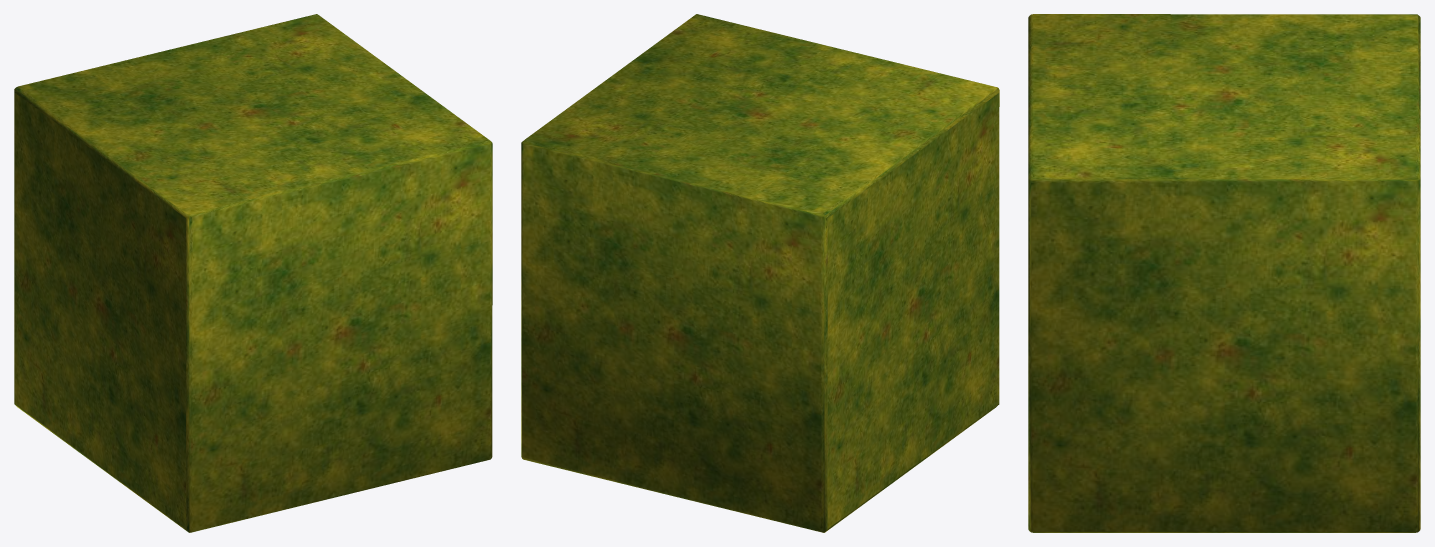
The model's file is moss.glb.
The picture shows the model from 3 angles, left to right: view 1: azimuth 30°, elevation 25°; view 2: azimuth 150°, elevation 25°; view 3: azimuth 270°, elevation 25°; orthographic projection. The views are drawn at different scales.
Visible parts, largest first — view 1: Cube; view 2: Cube; view 3: Cube.
Part boxes in pixels (<box>): Cube: <box>14,14,492,532</box>; Cube: <box>521,14,999,532</box>; Cube: <box>1028,14,1420,532</box>.
Bounding box in the file's own units: 200 × 200 × 200.
1 material, 1 textured.
